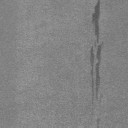red iron: (90, 42, 104, 106), (92, 0, 100, 44), (96, 118, 100, 128)
